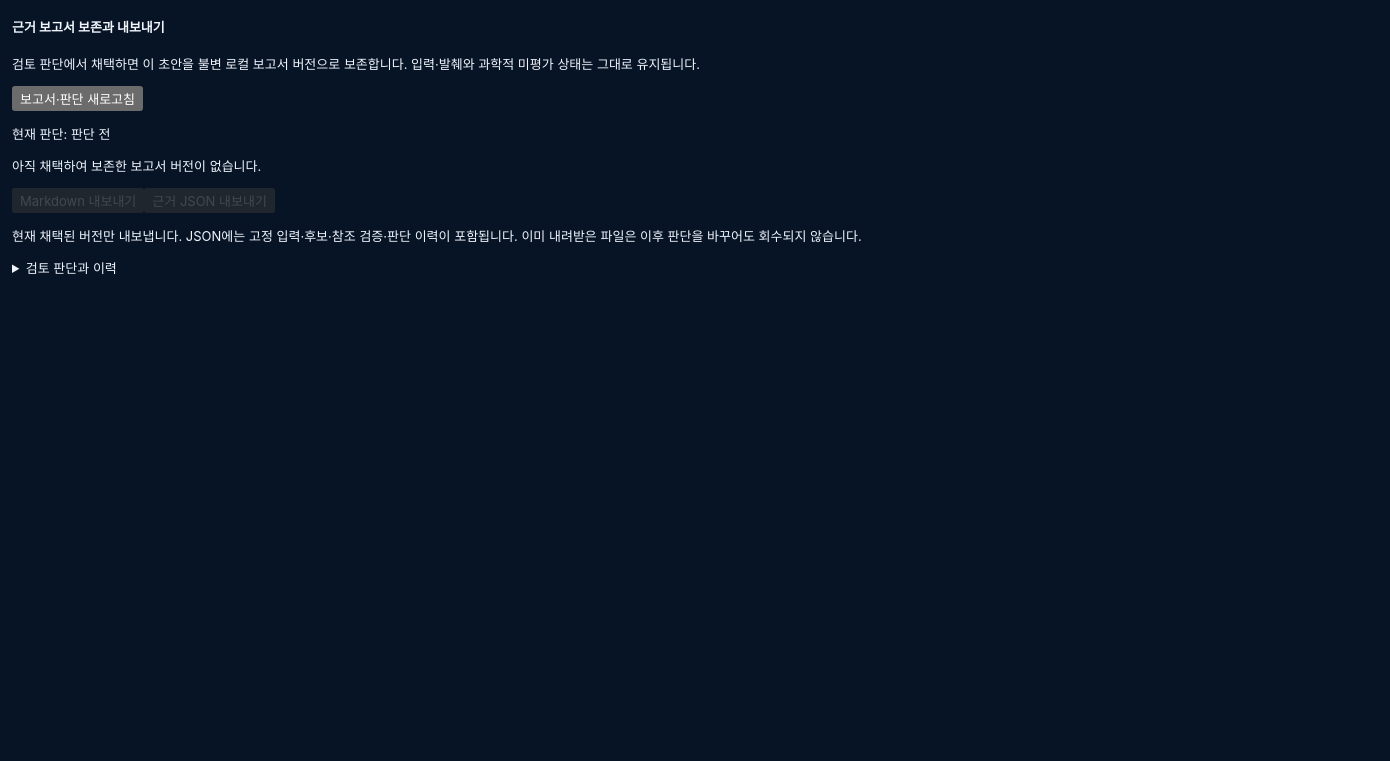
it: requires explicit acceptance, binds the candidate, and updates saved report state without closing history
The image size is (1390, 761).
Check: the text "현재 판단: 판단 전" is shown, box [12,126,110,142]
Check: the button "Markdown 내보내기" is disabled, box [12,188,144,213]
Click the heading "검토 판단과 이력".
click(71, 268)  # box [26,260,117,276]
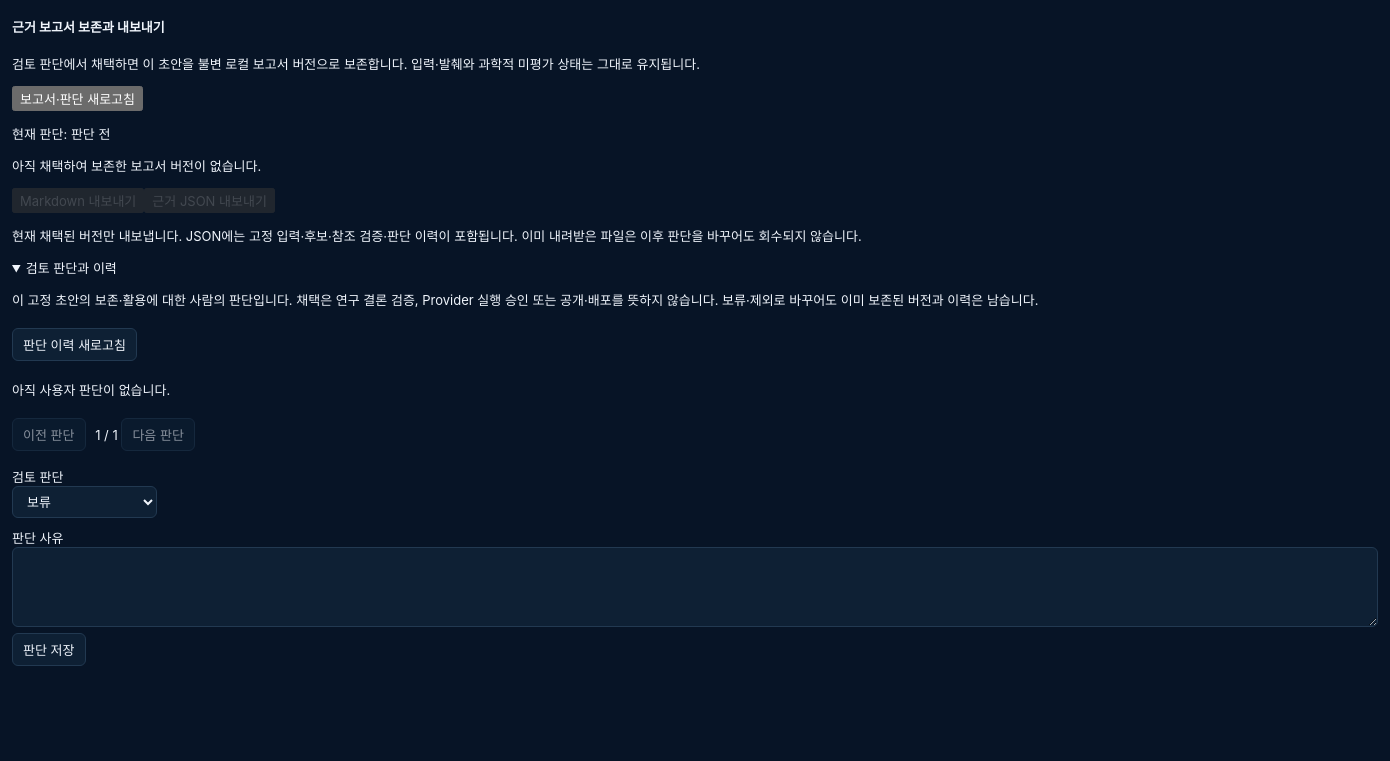
Check: the text "아직 사용자 판단이 없습니다." is shown, box [12,382,170,398]
Select "근거 보고서로 채택" in the dropdown labelled "검토 판단" at [84, 502], box [12,486,157,518]
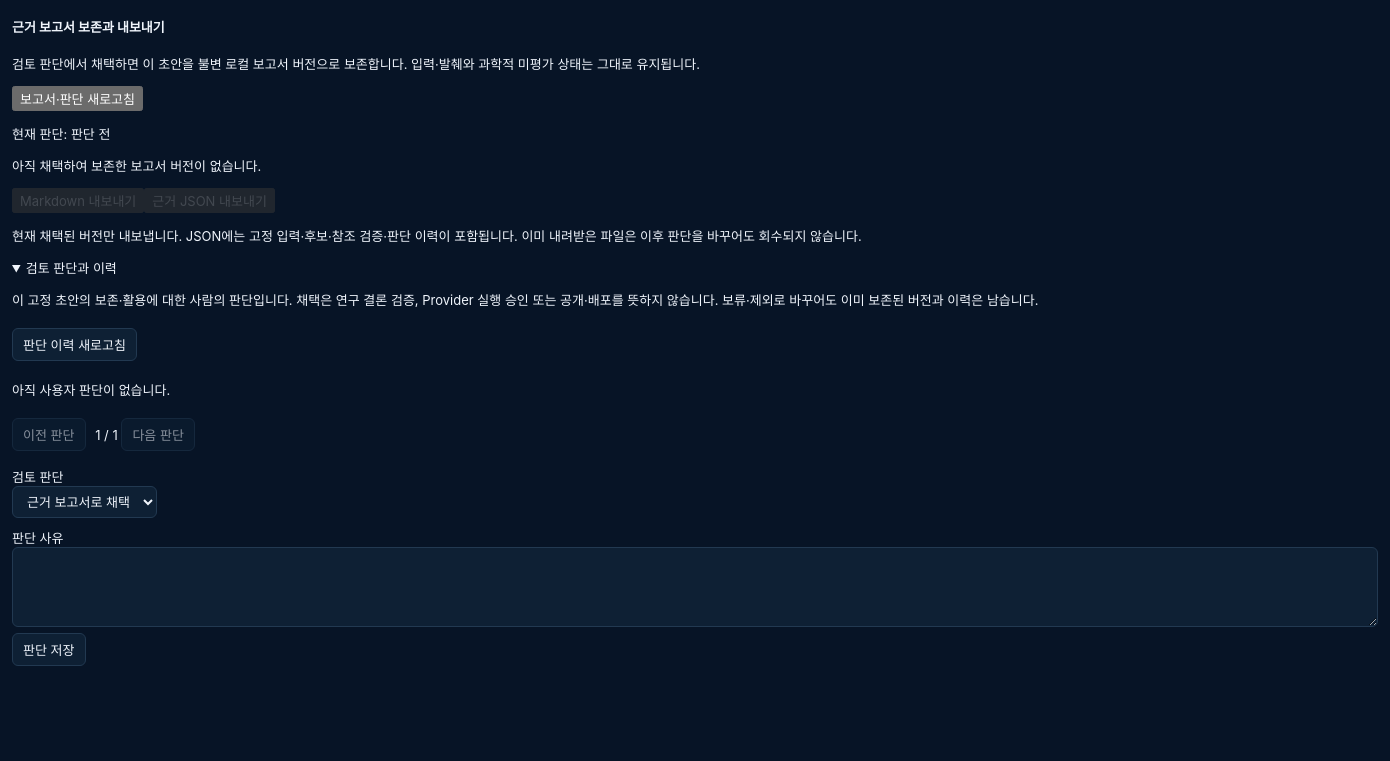
Type "Read evidence" into the text box labelled "판단 사유".
click(695, 587); type("Read evidence")  # box [12,547,1378,627]
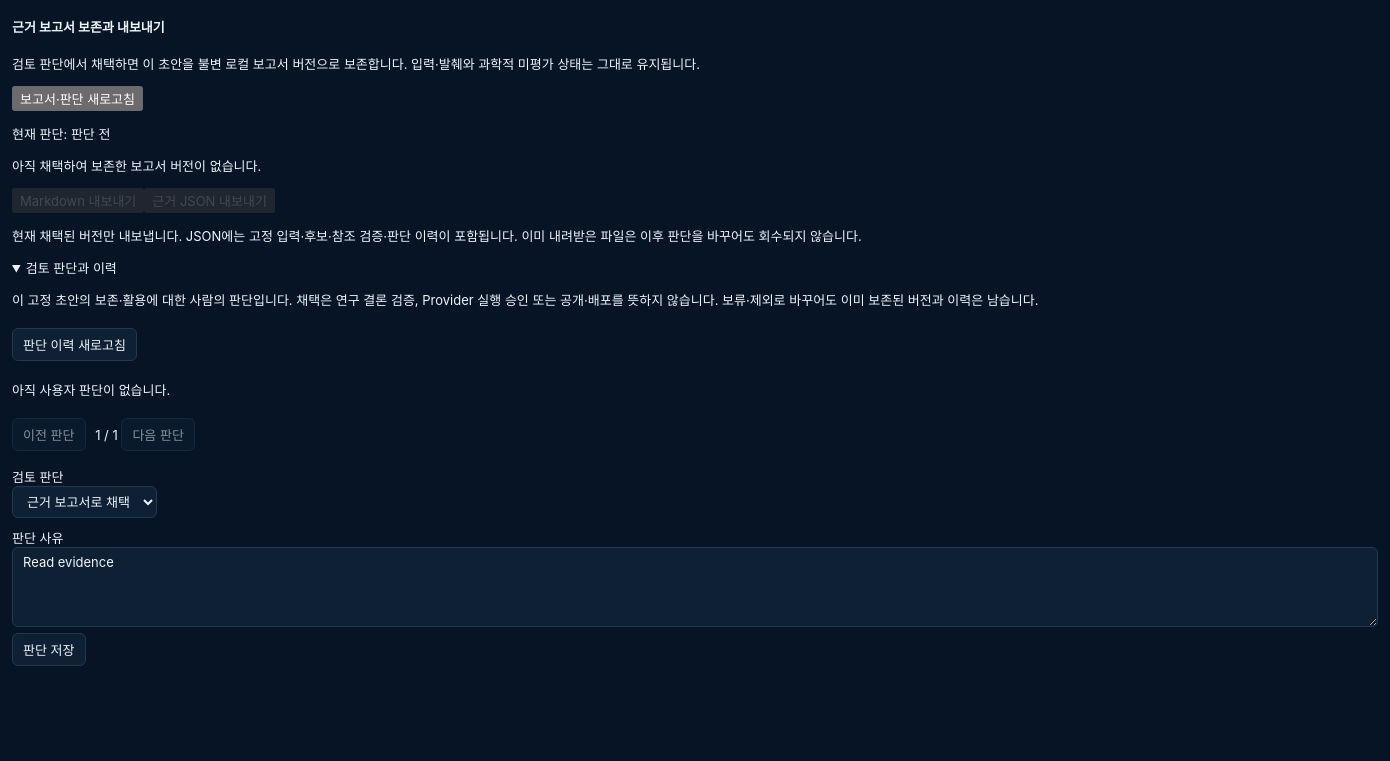
Click the button "판단 저장".
click(49, 649)  # box [12,633,86,666]
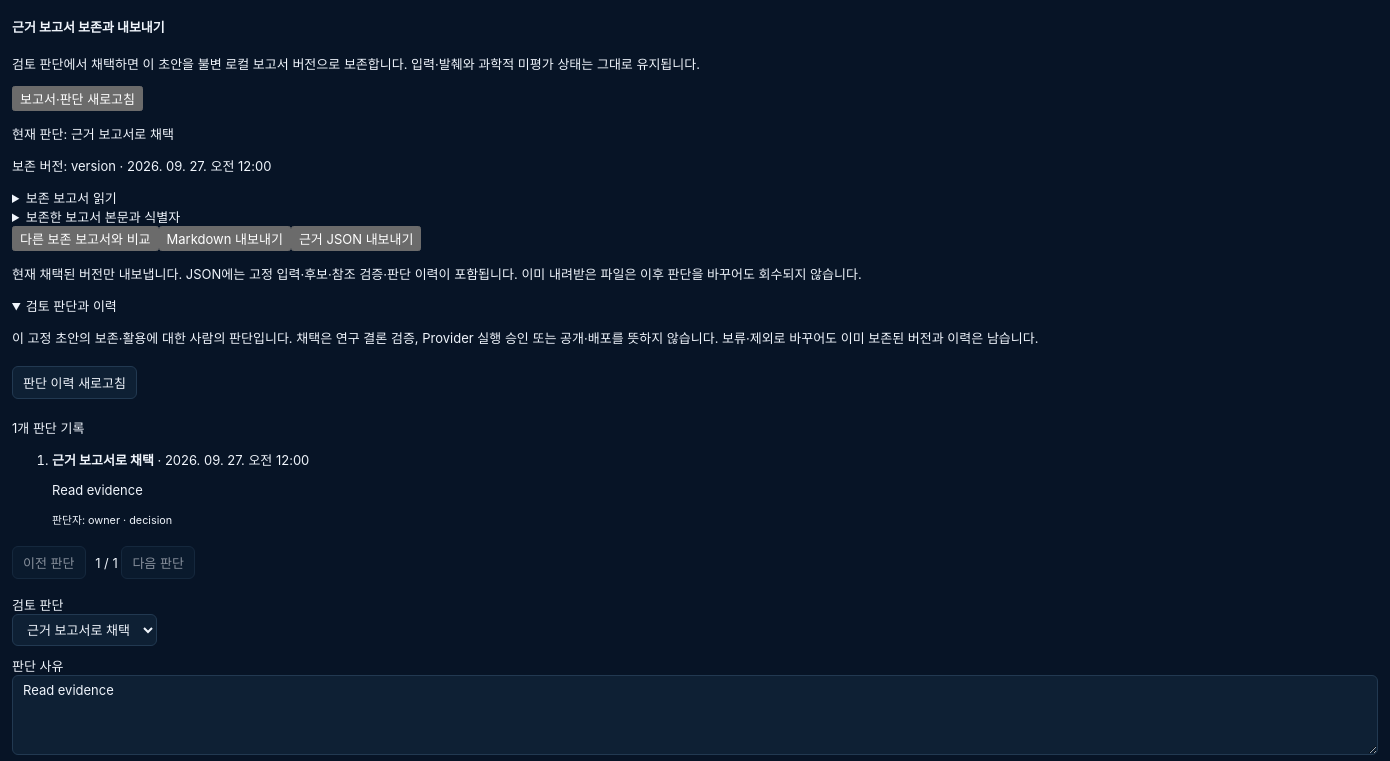
Check: the text "1개 판단 기록" is shown, box [12,420,84,436]
Check: the text "현재 판단: 근거 보고서로 채택" is shown, box [12,126,174,142]
Check: the button "근거 JSON 내보내기" is enabled, box [291,226,422,251]
